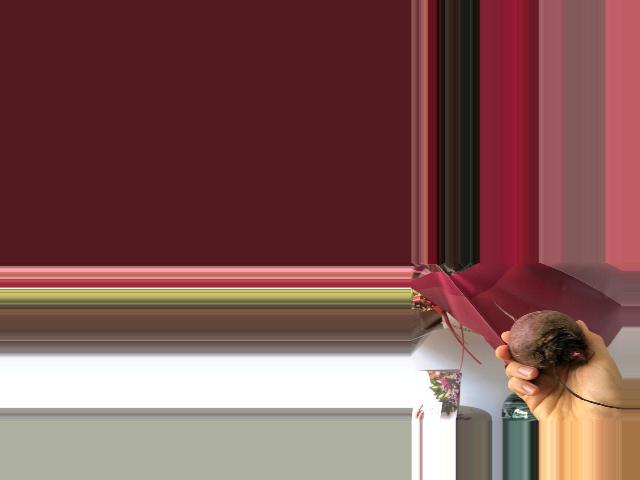beet: (492, 299, 621, 409)
